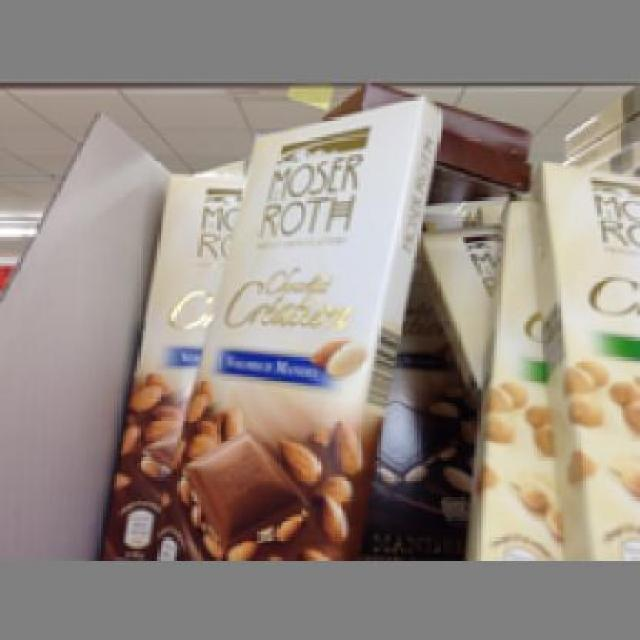Chocolate: (154, 100, 426, 560), (520, 160, 637, 557)
